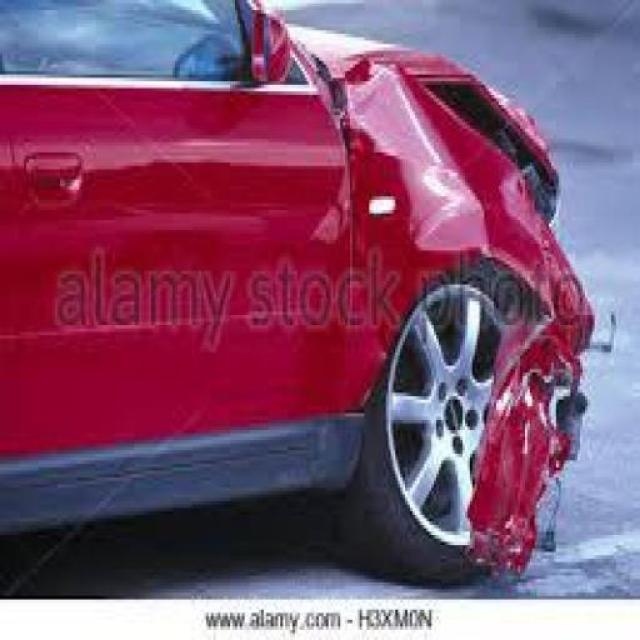crush: (298, 21, 601, 577)
